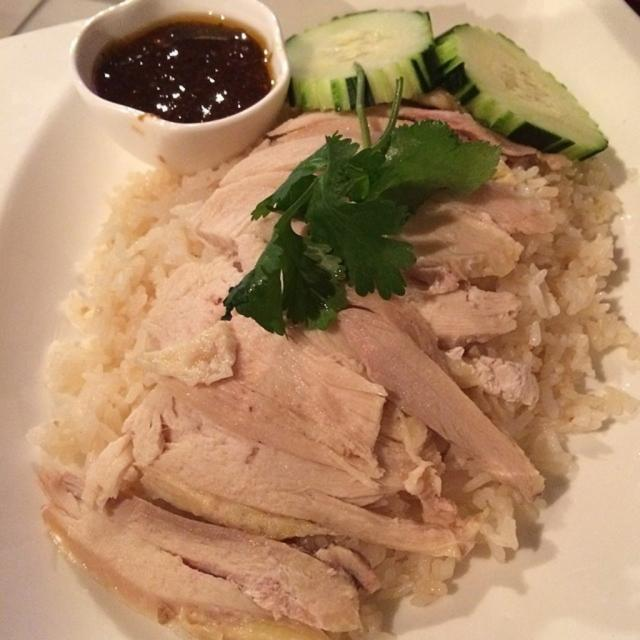Zucchini: (289, 15, 634, 191), (276, 8, 437, 115)
